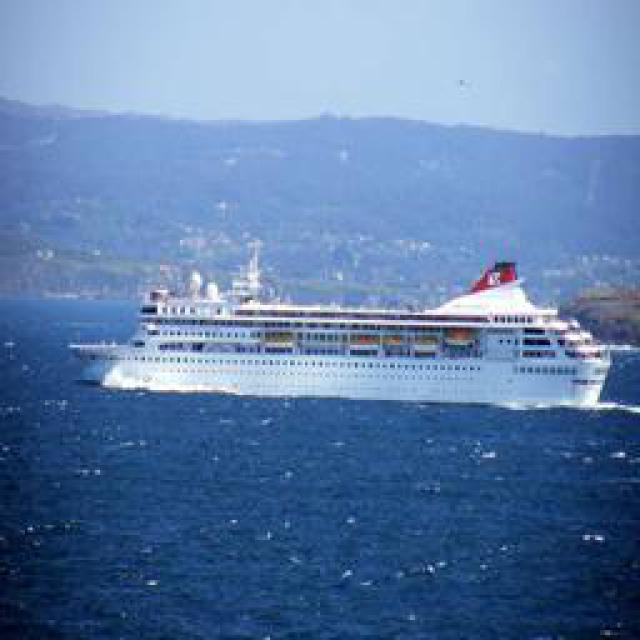Ship: (82, 256, 620, 411)
